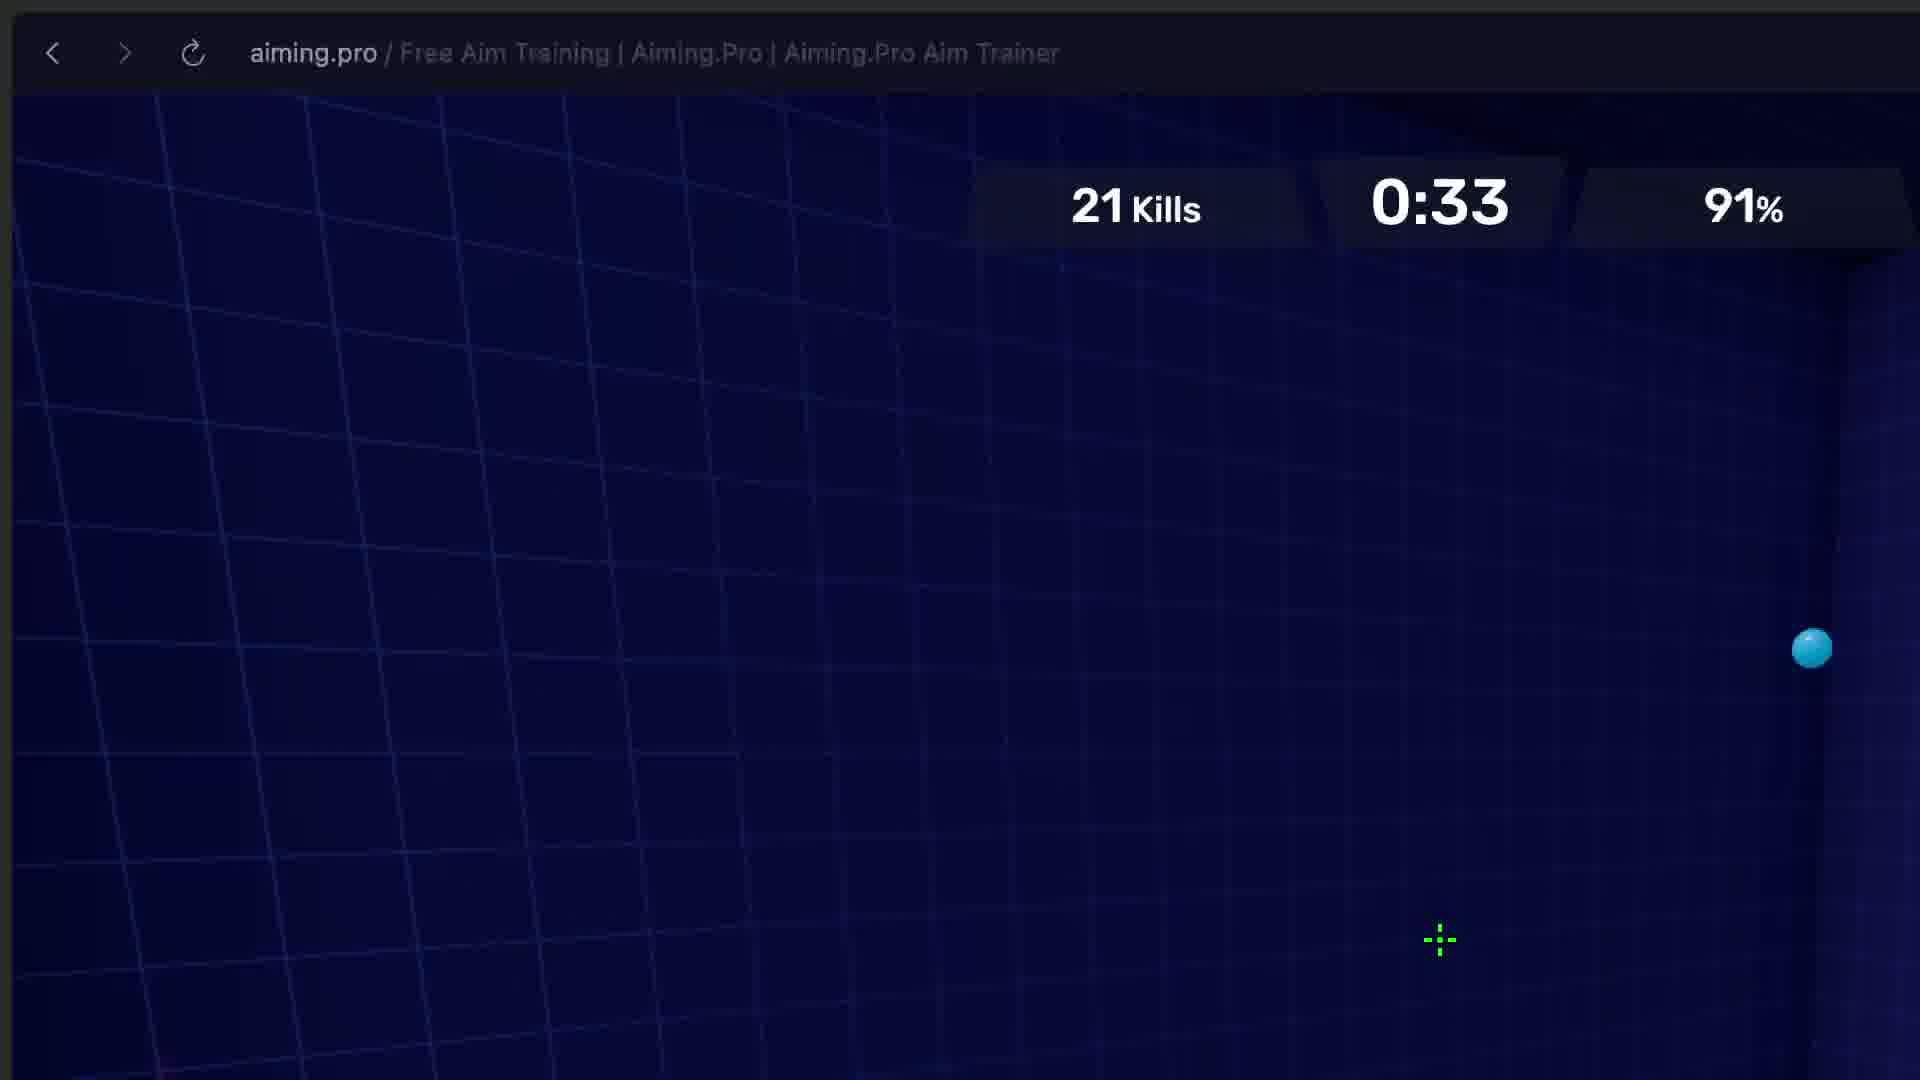target: (1792, 628, 1832, 669)
